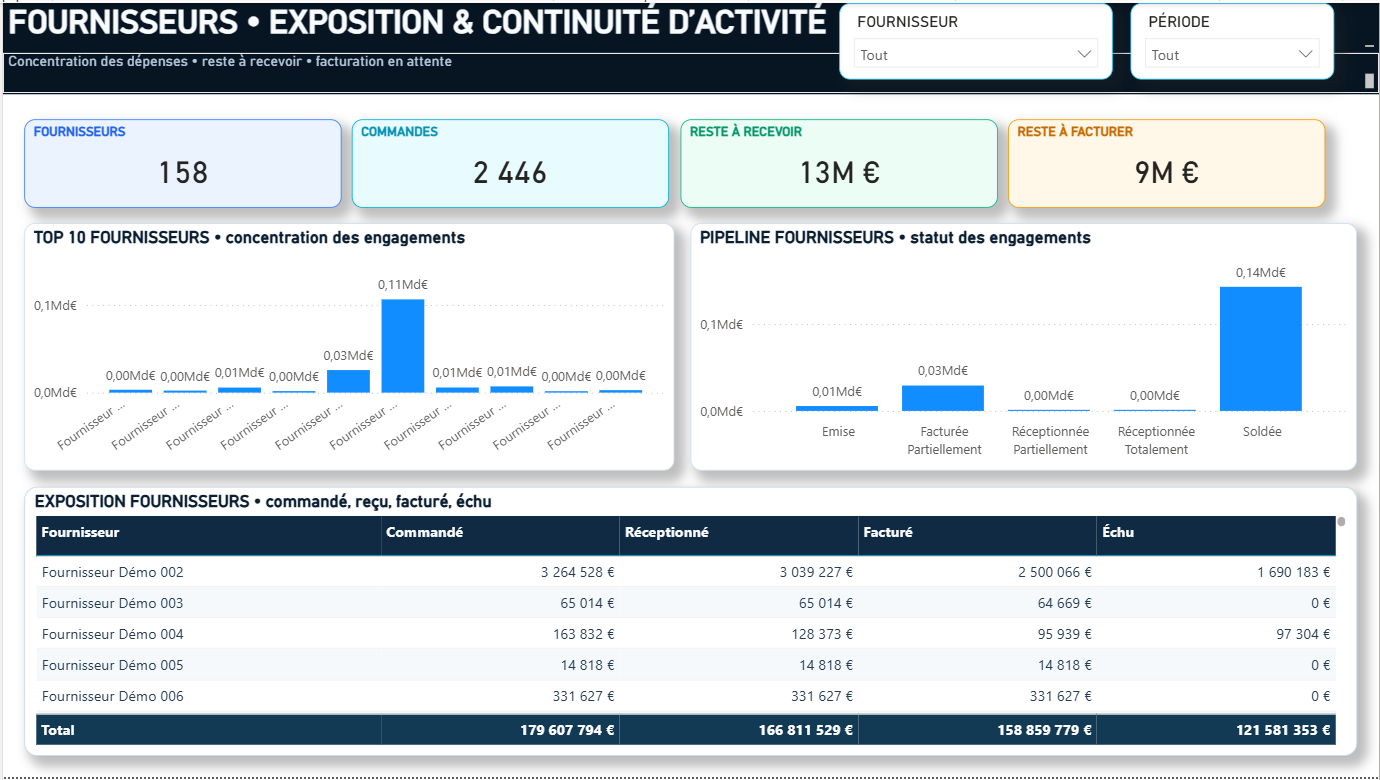

The page's visual inventory and layout, read from the dashboard file:
{"tool":"powerbi","page":{"name":"03 • Fournisseurs","canvas":[1280,720],"ordinal":2},"visuals":[{"type":"textbox","title":"FOURNISSEURS • EXPOSITION & CONTINUITÉ D’ACTIVITÉ","box":[0,0,1280,46],"z":1},{"type":"textbox","title":"Concentration des dépenses • reste à recevoir • facturation en attente","box":[0,46,1280,38],"z":2},{"type":"slicer","fields":{"Values":["Commandes P2/FU.Nom Fournisseur"]},"box":[735,13,255,58],"z":6},{"type":"slicer","fields":{"Values":["DATE.Date.Variation.Hiérarchie de dates.Année","DATE.Date.Variation.Hiérarchie de dates.Mois"]},"box":[1025,13,230,58],"z":7},{"type":"card","title":"FOURNISSEURS","fields":{"Values":["Commandes P2/FU.PF_NbFournisseurs"]},"box":[20,108,295,82],"z":10},{"type":"card","title":"COMMANDES","fields":{"Values":["Commandes P2/FU.PF_NbCommandes"]},"box":[325,108,295,82],"z":11},{"type":"card","title":"RESTE À RECEVOIR","fields":{"Values":["Commandes P2/FU.PF_NonRéceptionné"]},"box":[630,108,295,82],"z":12},{"type":"card","title":"RESTE À FACTURER","fields":{"Values":["Commandes P2/FU.PF_NonFacturé"]},"box":[935,108,295,82],"z":13},{"type":"columnChart","title":"TOP 10 FOURNISSEURS • concentration des engagements","fields":{"Category":["Commandes P2/FU.Nom Fournisseur"],"Y":["Commandes P2/FU.PF_Commandé"]},"box":[20,205,605,230],"z":20},{"type":"columnChart","title":"PIPELINE FOURNISSEURS • statut des engagements","fields":{"Category":["Commandes P2/FU.Etat"],"Y":["Commandes P2/FU.PF_Commandé"]},"box":[640,205,620,230],"z":21},{"type":"tableEx","title":"EXPOSITION FOURNISSEURS • commandé, reçu, facturé, échu","fields":{"Values":["Commandes P2/FU.Nom Fournisseur","Commandes P2/FU.PF_Commandé","Commandes P2/FU.PF_Réceptionné","Commandes P2/FU.PF_Facturé","Commandes P2/FU.PF_Échu"]},"box":[20,450,1240,250],"z":22}]}

Visuals, with their boxes in screenshot pixels (x1, y1, x2, y2), scaled from the page's 1280x720 canvas onto the 1380x780 screenshot:
"FOURNISSEURS • EXPOSITION & CONTINUITÉ D’ACTIVITÉ" textbox: locate(0, 0, 1379, 50)
"Concentration des dépenses • reste à recevoir • facturation en attente" textbox: locate(0, 50, 1379, 91)
slicer - Commandes P2/FU.Nom Fournisseur: locate(792, 14, 1067, 77)
slicer - DATE.Date.Variation.Hiérarchie de dates.Année x DATE.Date.Variation.Hiérarchie de dates.Mois: locate(1105, 14, 1353, 77)
"FOURNISSEURS" card: locate(22, 117, 340, 206)
"COMMANDES" card: locate(350, 117, 668, 206)
"RESTE À RECEVOIR" card: locate(679, 117, 997, 206)
"RESTE À FACTURER" card: locate(1008, 117, 1326, 206)
"TOP 10 FOURNISSEURS • concentration des engagements" columnChart: locate(22, 222, 674, 471)
"PIPELINE FOURNISSEURS • statut des engagements" columnChart: locate(690, 222, 1358, 471)
"EXPOSITION FOURNISSEURS • commandé, reçu, facturé, échu" tableEx: locate(22, 487, 1358, 758)
